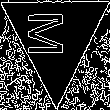M_E: (33, 14, 78, 61)
